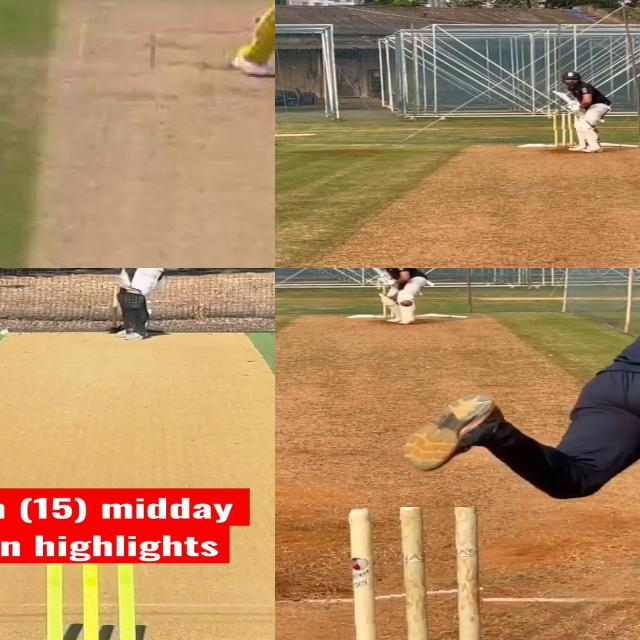Cricket ball: (400, 299, 414, 307), (0, 329, 9, 337)
Stumps: (344, 507, 482, 640), (549, 113, 576, 149)
